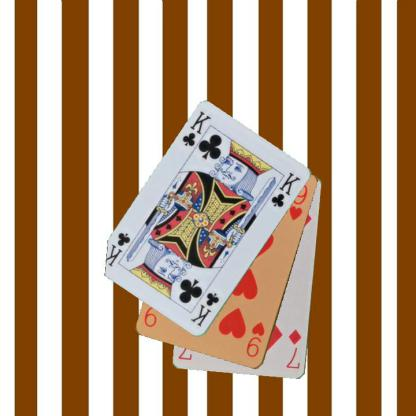7d: (284, 327, 302, 370)
9h: (244, 319, 266, 359)
Kc: (180, 108, 213, 148), (188, 290, 220, 328)
